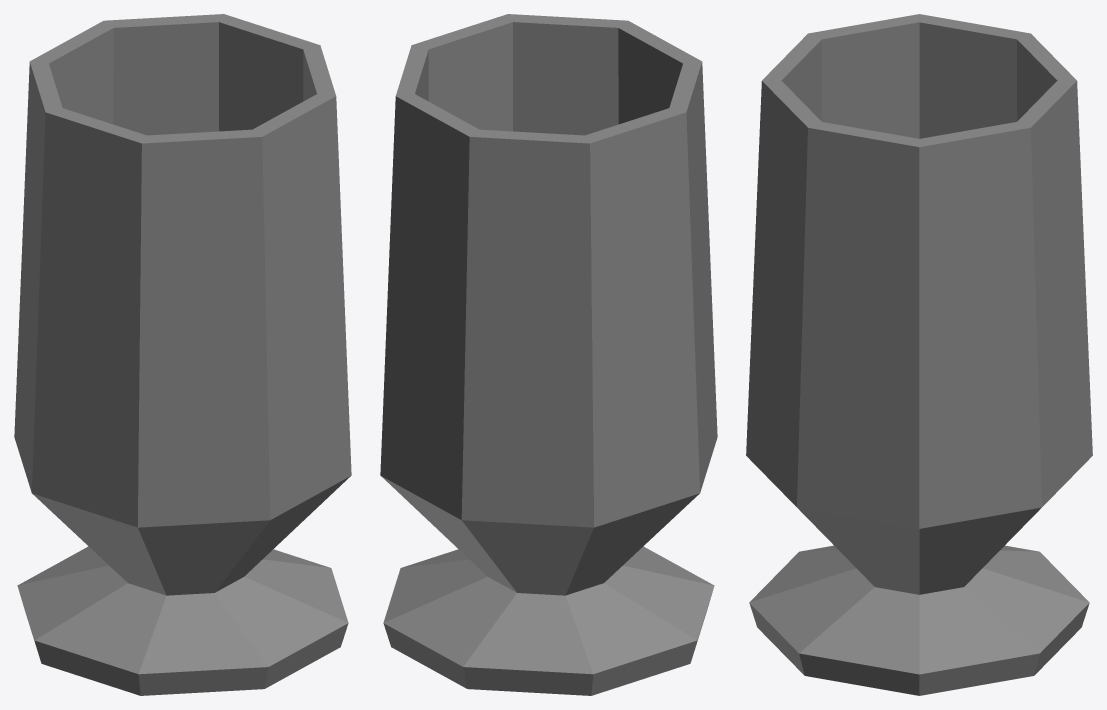
File: tavern-tankard.glb
3 views of the same model, side by side, from view 1: azimuth 30°, elevation 25°; view 2: azimuth 150°, elevation 25°; view 3: azimuth 270°, elevation 25° (orthographic).
Visible parts, largest first — view 1: tankard_empty; view 2: tankard_empty; view 3: tankard_empty.
Part boxes in pixels (x1,y1,x2,y2): tankard_empty: (14, 14, 351, 695); tankard_empty: (380, 14, 717, 695); tankard_empty: (746, 14, 1092, 695).
Bounding box in the file's own units: 0.088 × 0.1531 × 0.088.
1 material, 1 textured.
